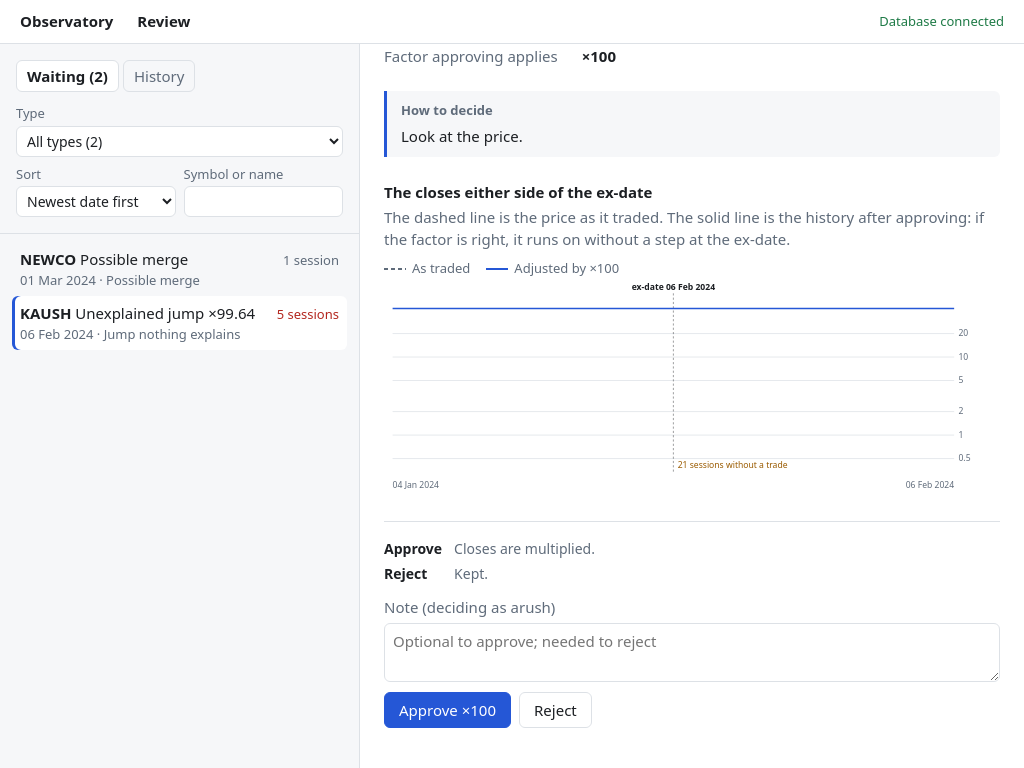
reject needs a note, and a refusal is shown in words
(page scrolled)
Click the button "Reject" at (555, 710), box [519,692,592,728]
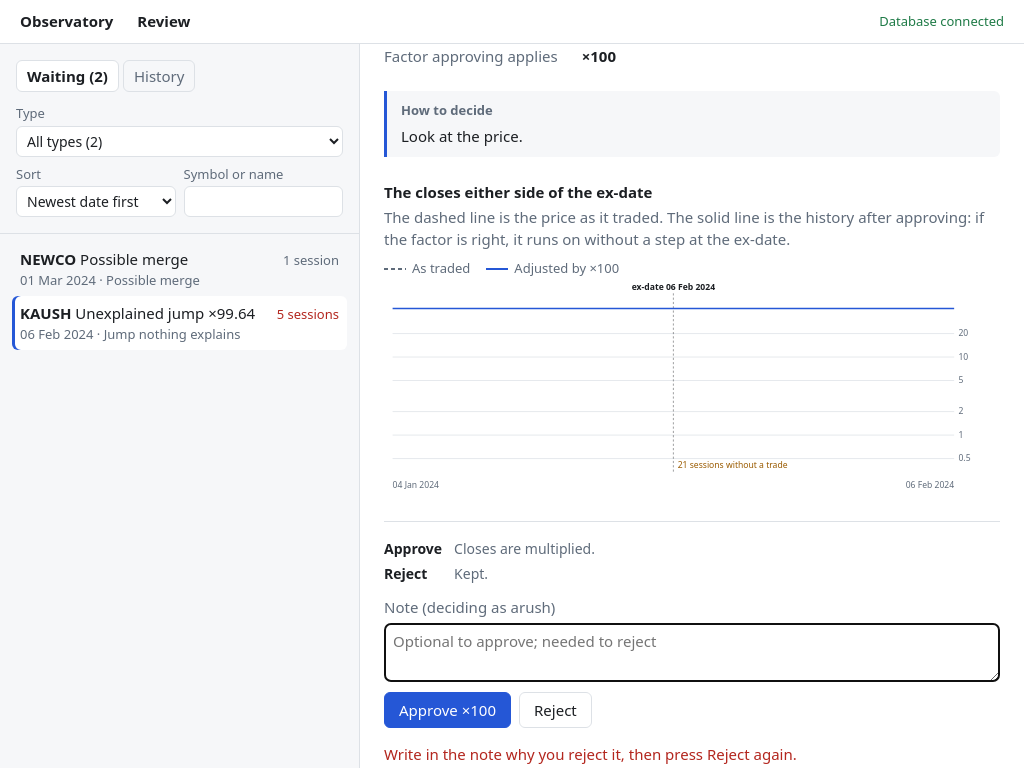
Check: the text "Write in the note why you reject it" is shown, box [384,744,797,764]
Type "a series move" into the text box at (692, 652), box [384,623,1000,682]
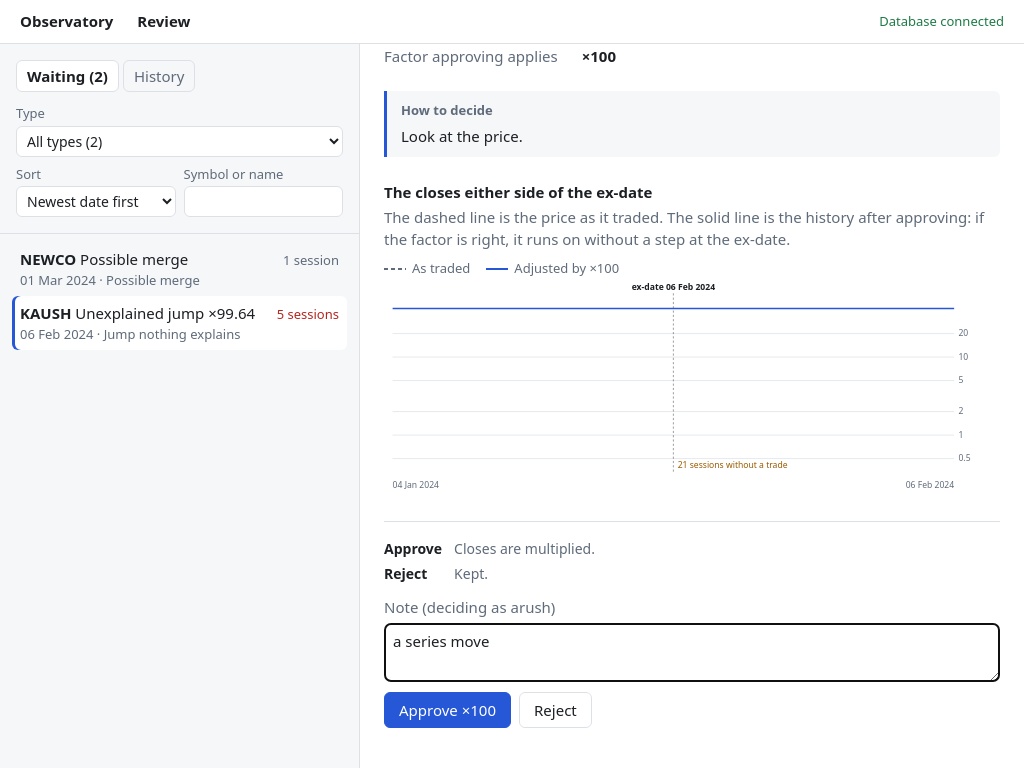
Click the button "Reject" at (555, 710), box [519,692,592,728]
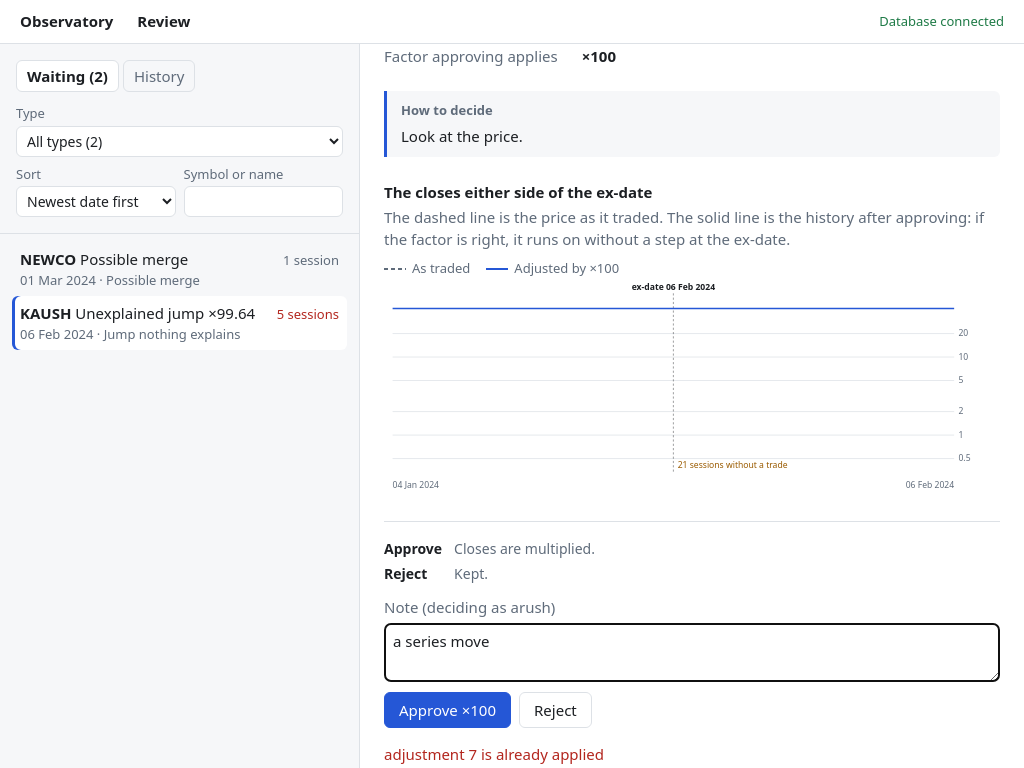
Check: the text "adjustment 7 is already applied" is shown, box [384,744,604,764]
